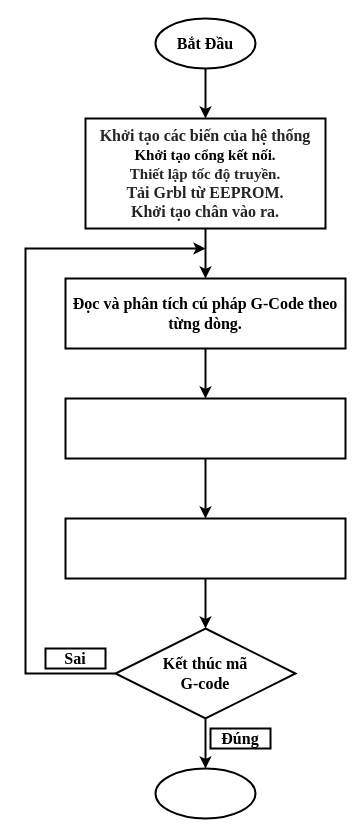
This 363x836 diagram has some shape labels left out. Each missing label, with the centre of its shape:
Chuyển đổi dữ liệu gcode thành lệnh chuyển động: point (205, 428)
Kết thúc: point (205, 793)
Thực hiện lệnh chuyển động: point (205, 548)
